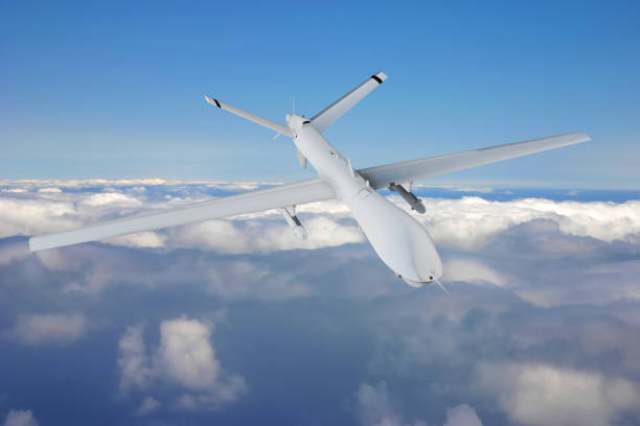military drone: (28, 70, 591, 295)
